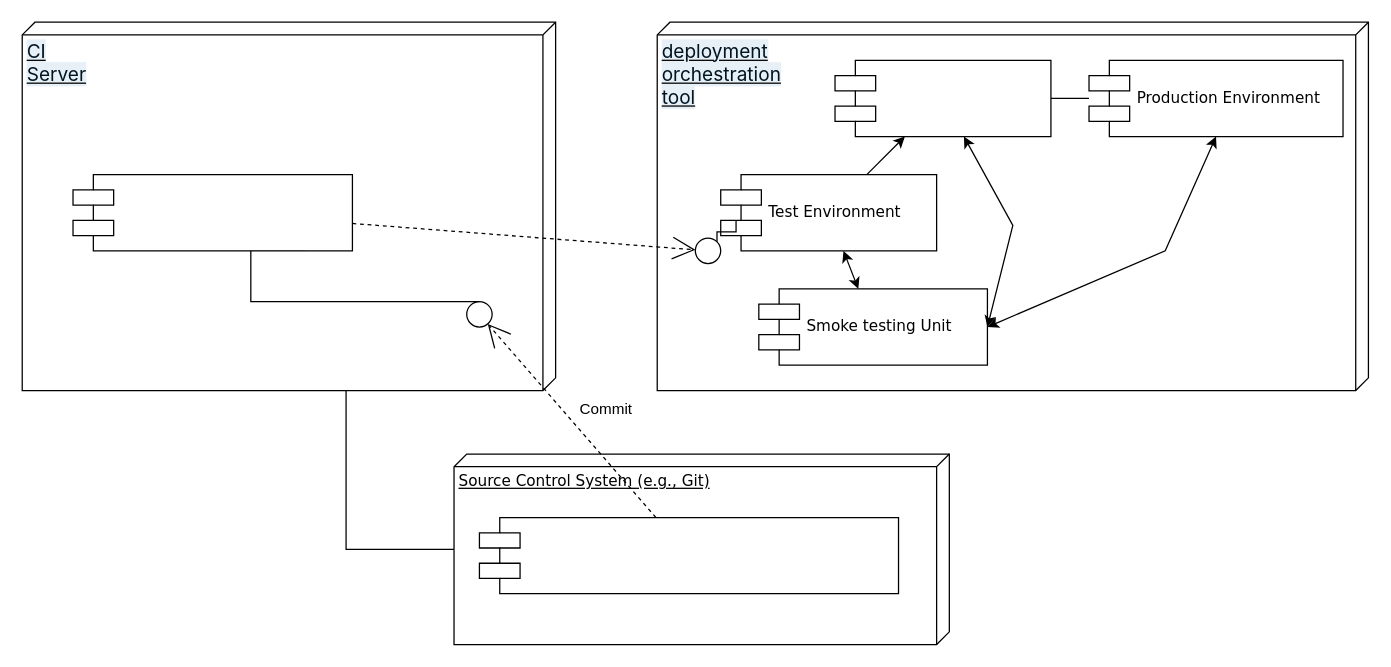
This 1391x667 diagram has some shape labels left out. Each missing label, with the centre of its shape:
"Automation testing Unit" belongs at point (212, 212).
"UAT Environment" belongs at point (942, 98).
"Version Control System (VCS) Repository" belongs at point (688, 555).
